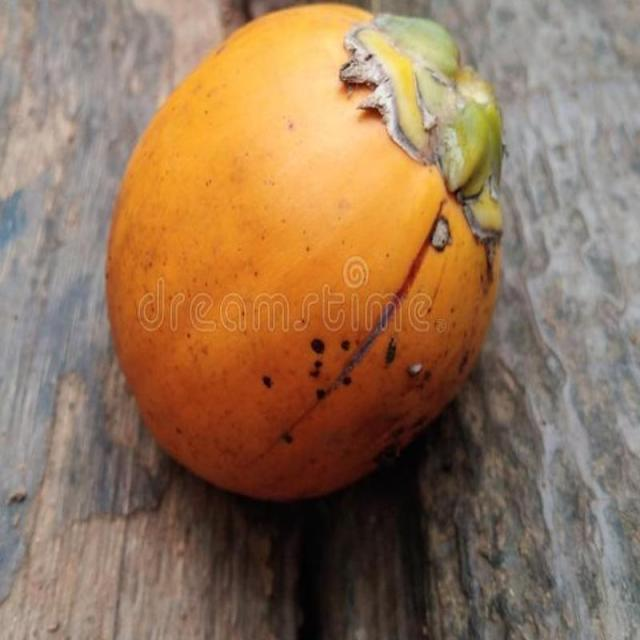good: (105, 3, 502, 507)
